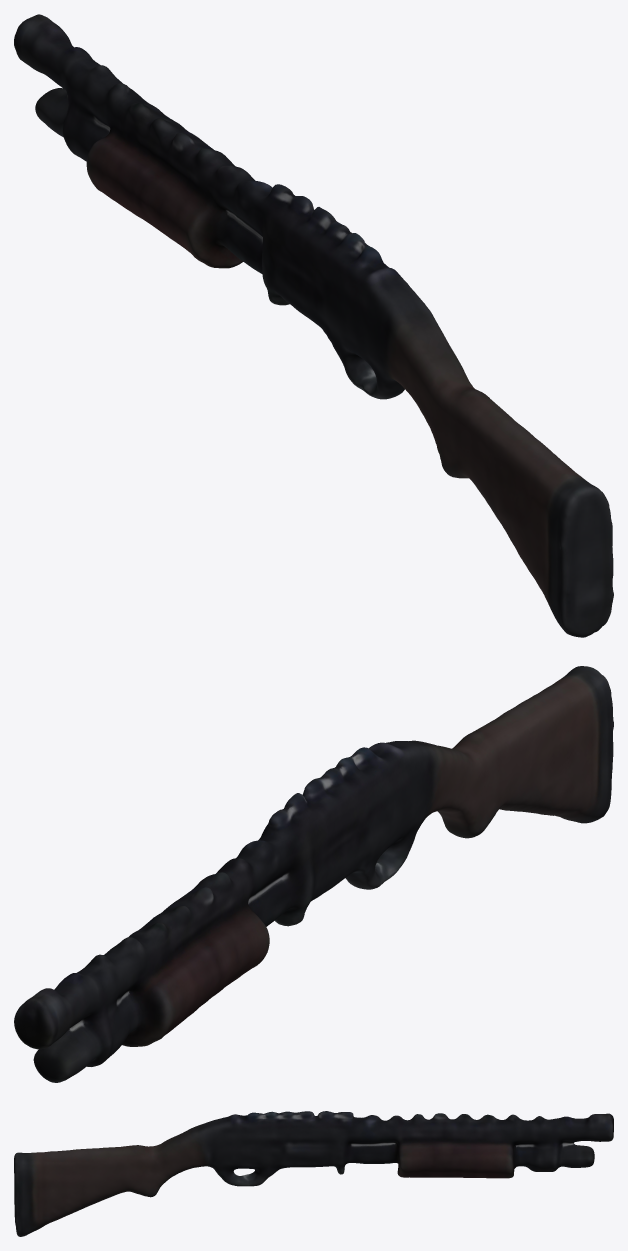
Rendered from Trail Boss Shotgun_mesh.glb.
The picture shows the model from 3 angles, top to bottom: view 1: azimuth 30°, elevation 25°; view 2: azimuth 150°, elevation 25°; view 3: azimuth 270°, elevation 25°; orthographic projection. The views are drawn at different scales.
Visible parts, largest first — view 1: world; view 2: world; view 3: world.
Part boxes in pixels (<box>): world: <box>14,14,613,637</box>; world: <box>14,666,613,1082</box>; world: <box>14,1111,613,1236</box>.
Bounding box in the file's own units: 0.0515 × 0.1377 × 0.598.
1 material, 1 textured.
